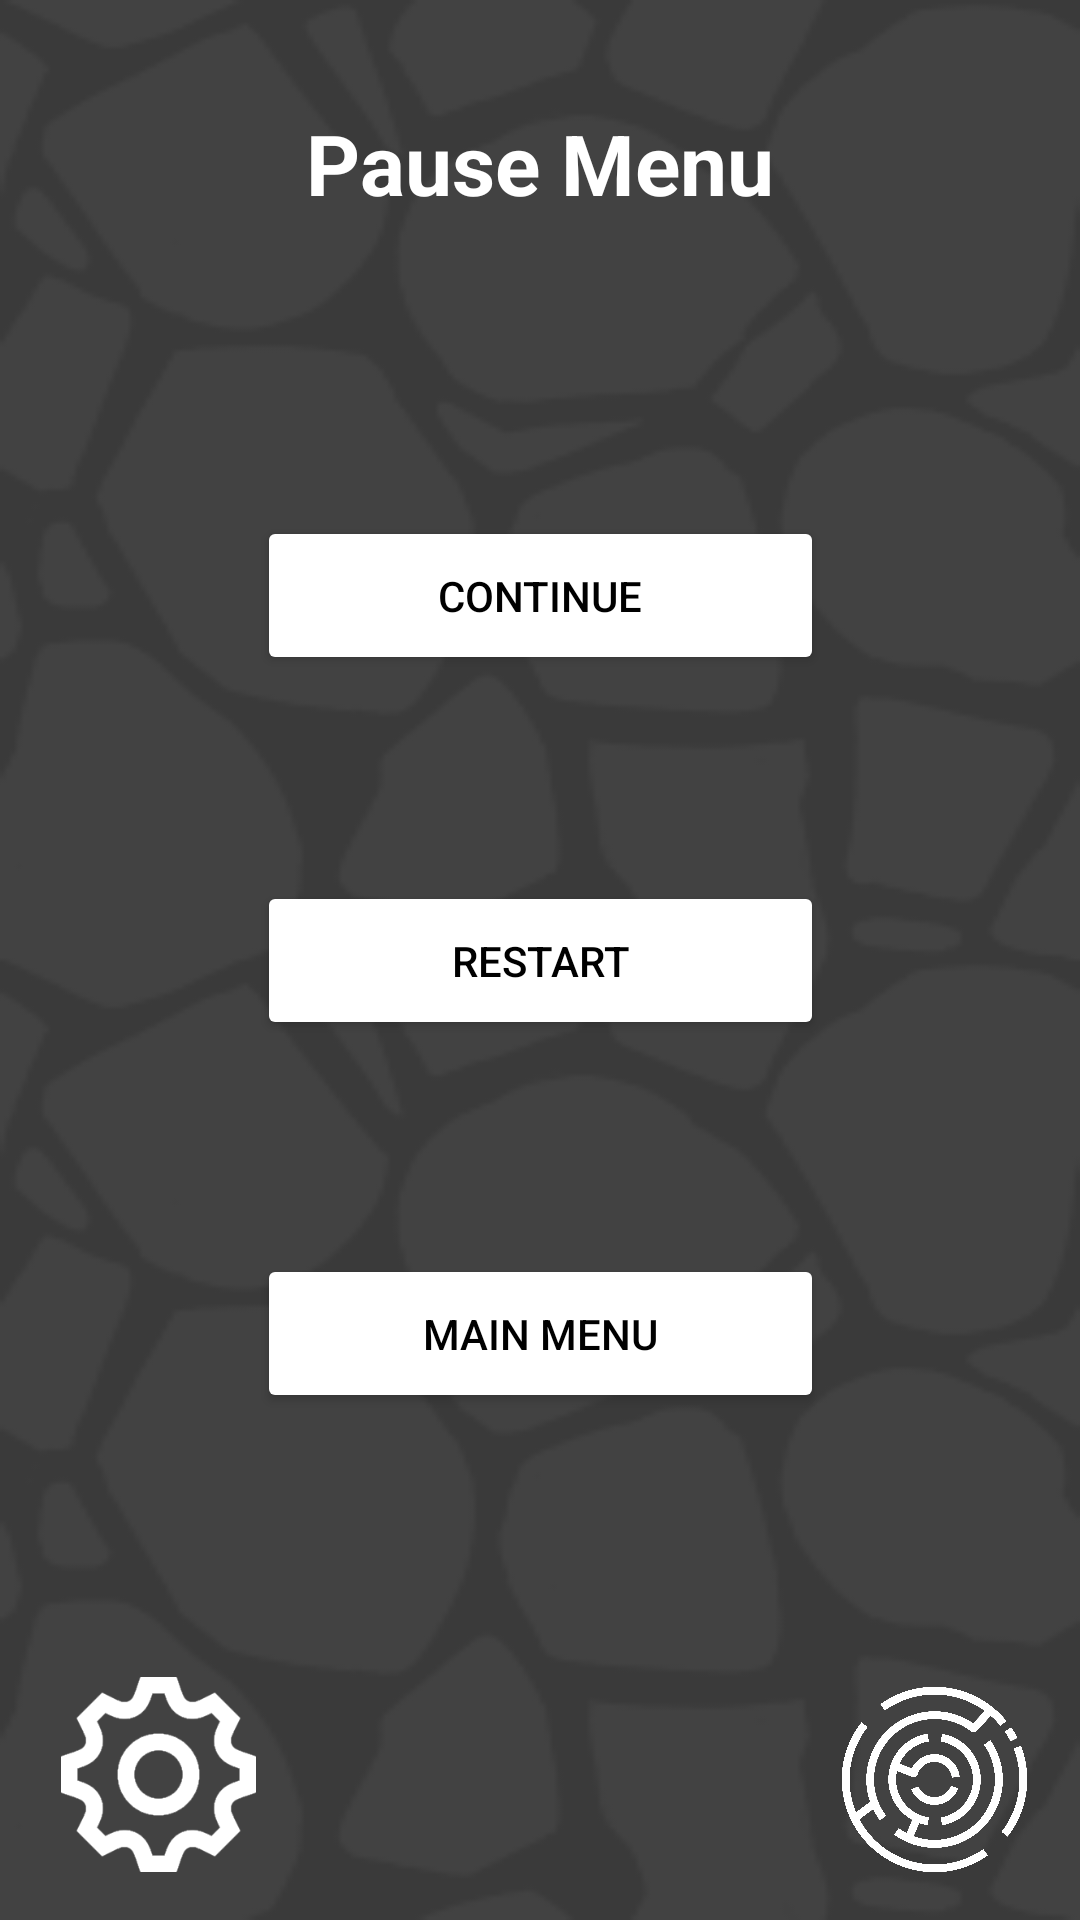

Named icons in this screenshot (1080w x 1920h) and their centers, [x,y]:
levelselect: [934,1779]
settings: [158,1774]
